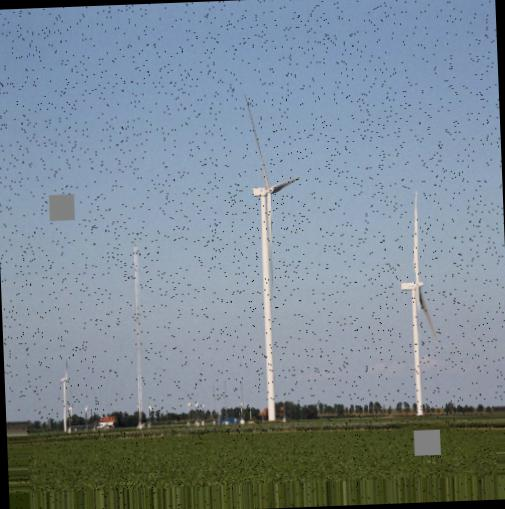wind turbine: (242, 97, 300, 422), (396, 192, 437, 417)
